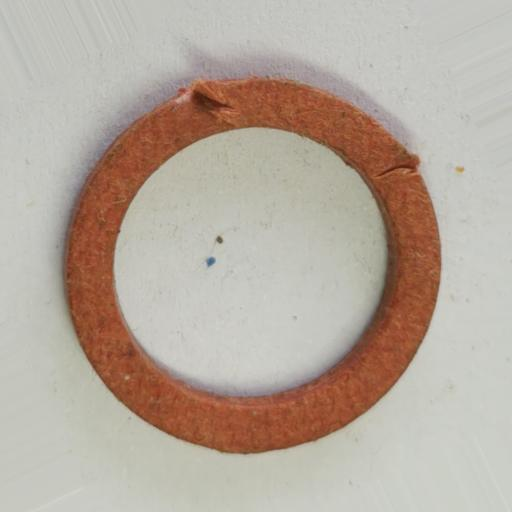defect: (178, 77, 239, 130), (376, 153, 422, 183)
